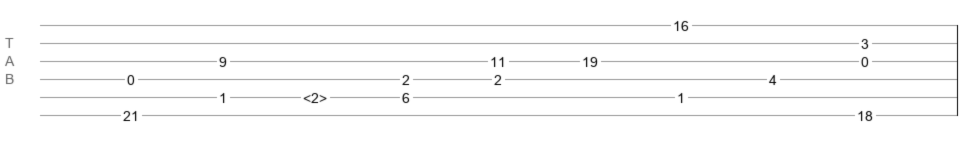0: (127, 72, 135, 82), (861, 54, 869, 64)
1: (219, 90, 227, 100), (677, 90, 685, 100)
11: (490, 54, 506, 64)
16: (673, 18, 689, 28)
18: (857, 108, 873, 118)
19: (582, 54, 598, 64)
2: (402, 72, 410, 82), (494, 72, 502, 82)
21: (123, 108, 139, 118)
3: (861, 36, 869, 46)
4: (769, 72, 777, 82)
6: (402, 90, 410, 100)
9: (219, 54, 227, 64)
harmonic: (303, 90, 327, 100)
